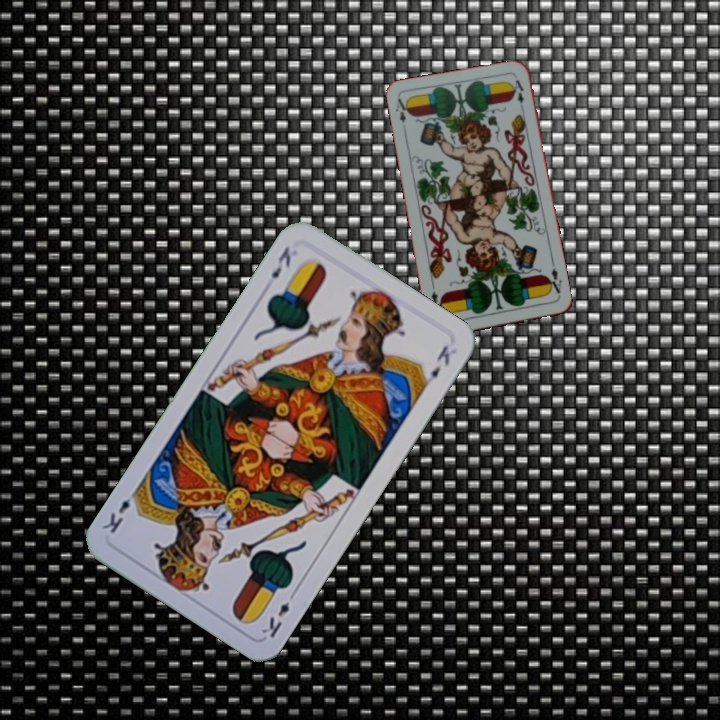EA: (392, 95, 412, 135), (543, 264, 564, 299)
EK: (257, 586, 300, 641), (267, 242, 294, 282)
